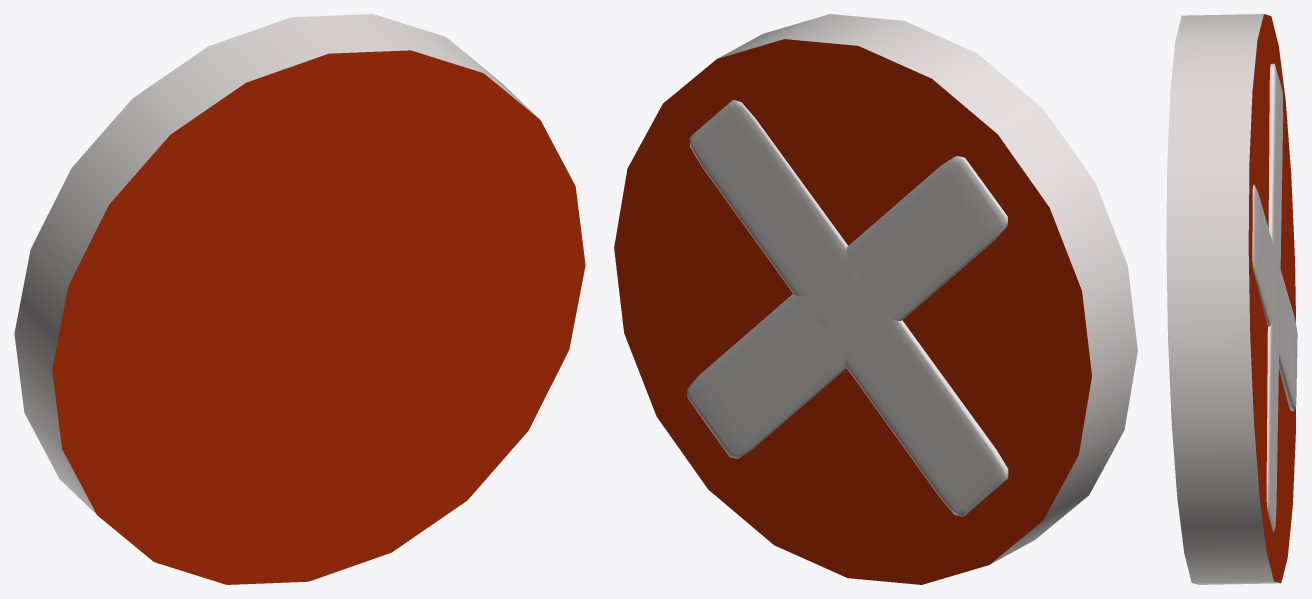
File: denymesh.FBX
3 renders of one model, left to right at view 1: azimuth 30°, elevation 25°; view 2: azimuth 150°, elevation 25°; view 3: azimuth 270°, elevation 25°, orthographic. The views are drawn at different scales.
Parts seen in each view (by area): view 1: pCylinder3; view 2: pCylinder3; view 3: pCylinder3.
Boxes of the visible parts, box(x1,y1,x2,y2) form: pCylinder3: box(14, 14, 585, 584); pCylinder3: box(614, 14, 1137, 584); pCylinder3: box(1166, 14, 1297, 584).
Bounding box in the file's own units: 17.94 × 17.92 × 4.07.
